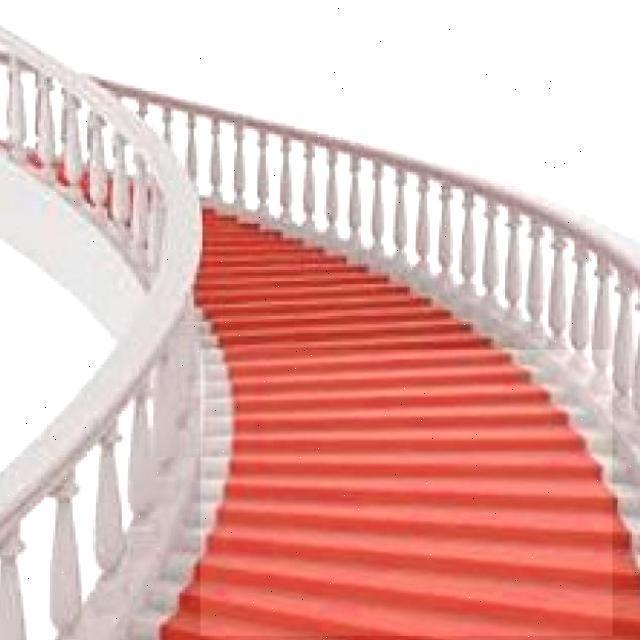stair: (200, 350, 612, 636)
